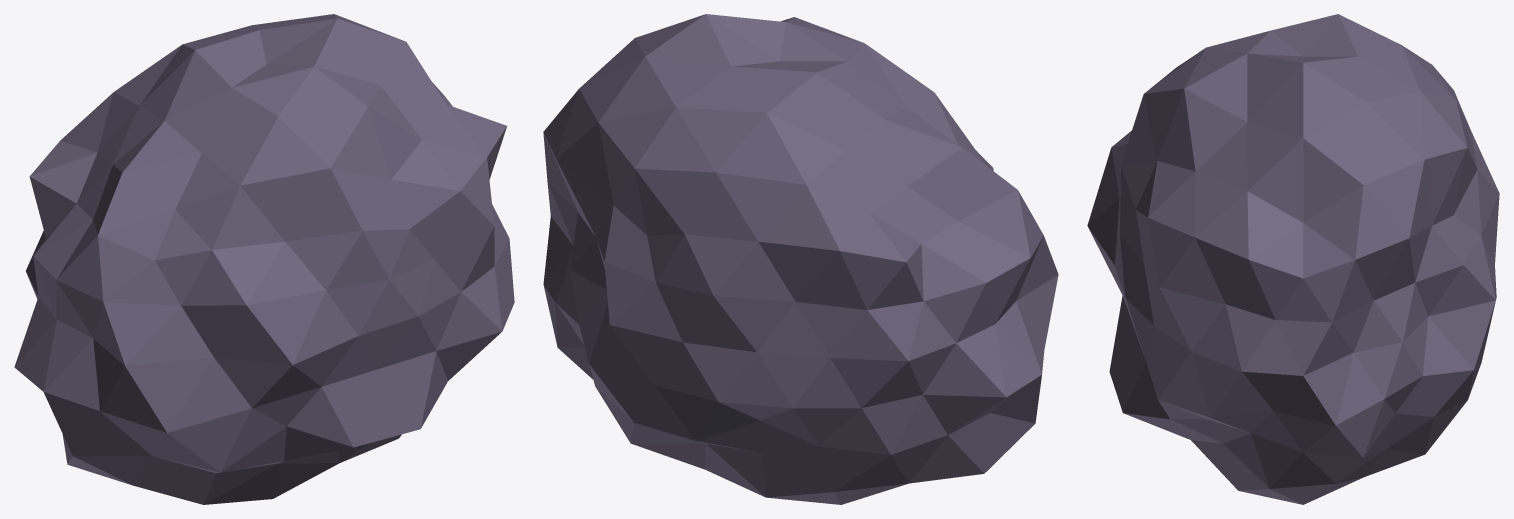
Rendered from SM_Asteroid_01.fbx.
3 renders of one model, left to right at view 1: azimuth 30°, elevation 25°; view 2: azimuth 150°, elevation 25°; view 3: azimuth 270°, elevation 25°, orthographic. The views are drawn at different scales.
Parts seen in each view (by area): view 1: SM_Asteroid_01; view 2: SM_Asteroid_01; view 3: SM_Asteroid_01.
Part boxes in pixels (x1,y1,x2,y2): SM_Asteroid_01: (14, 14, 514, 504); SM_Asteroid_01: (543, 14, 1058, 504); SM_Asteroid_01: (1087, 14, 1499, 504).
Bounding box in the file's own units: 1 × 0.9113 × 0.7575.
